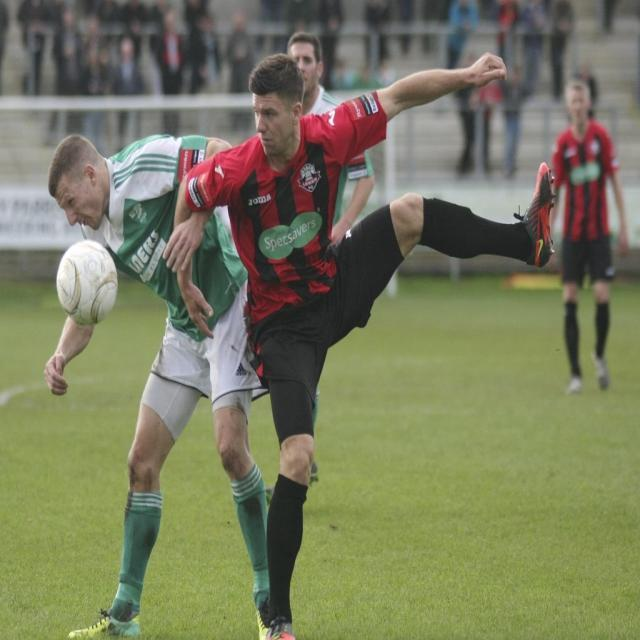football: (36, 239, 134, 323)
